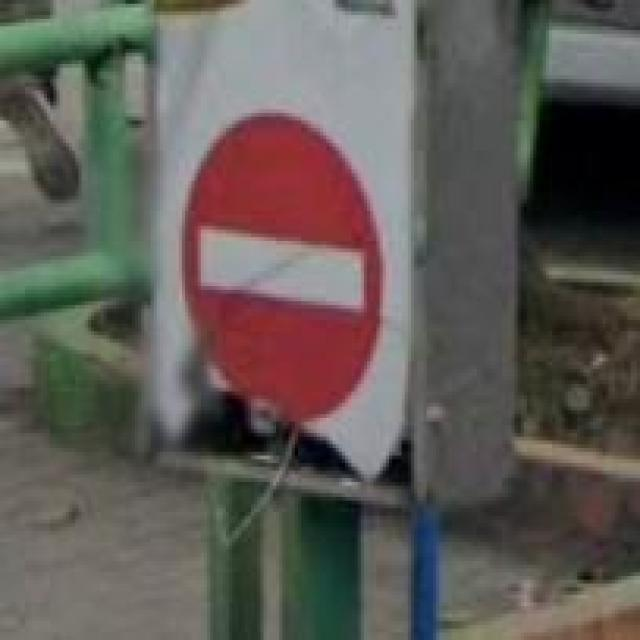traffic sign: (182, 117, 380, 430)
